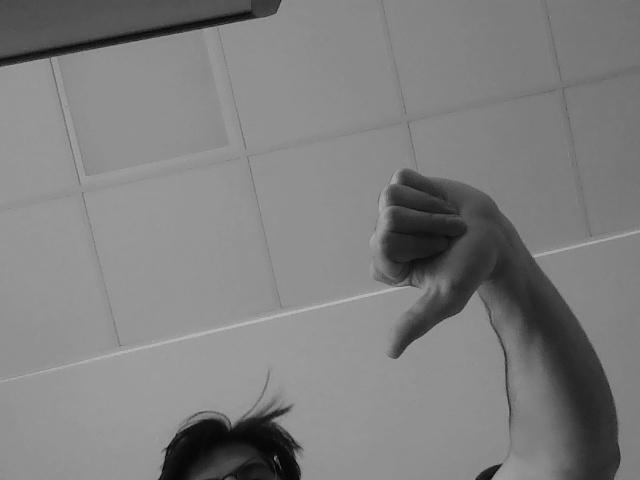bad: (373, 159, 492, 389)
